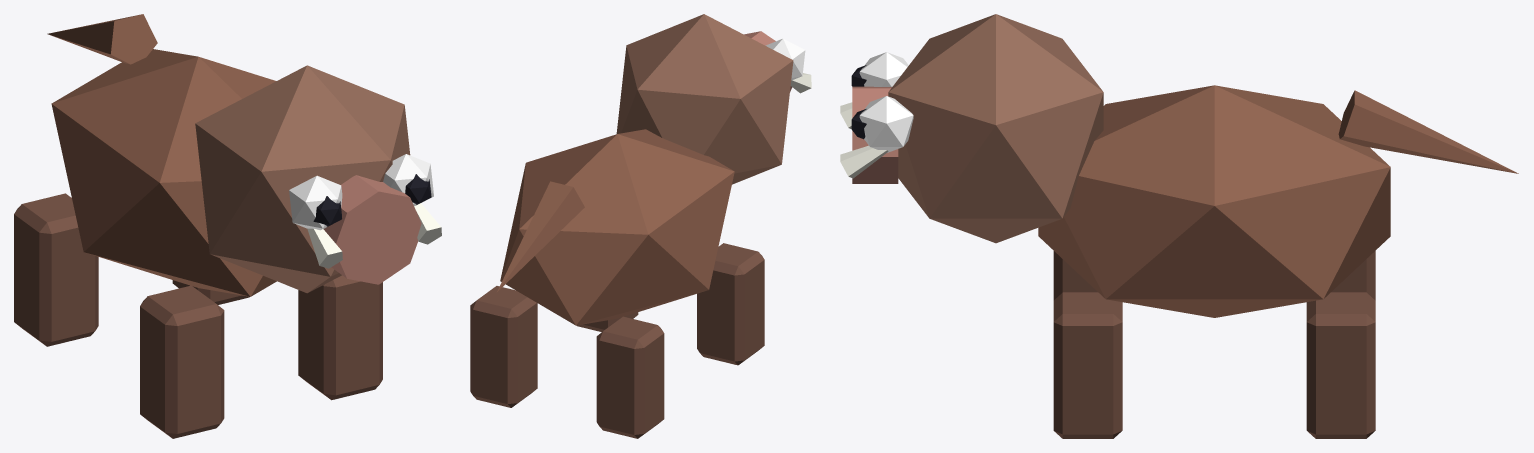
The model's file is WildBoar.fbx.
3 views of the same model, side by side, from view 1: azimuth 30°, elevation 25°; view 2: azimuth 150°, elevation 25°; view 3: azimuth 270°, elevation 25° (orthographic). The views are drawn at different scales.
Parts seen in each view (by area): view 1: WildBoar; view 2: WildBoar; view 3: WildBoar.
Part boxes in pixels (box(x1,y1,x2,y2)): WildBoar: box(14, 14, 441, 438); WildBoar: box(470, 14, 811, 438); WildBoar: box(840, 14, 1518, 438).
Bounding box in the file's own units: 2.78 × 4.32 × 7.09.
1 material, 1 textured.
